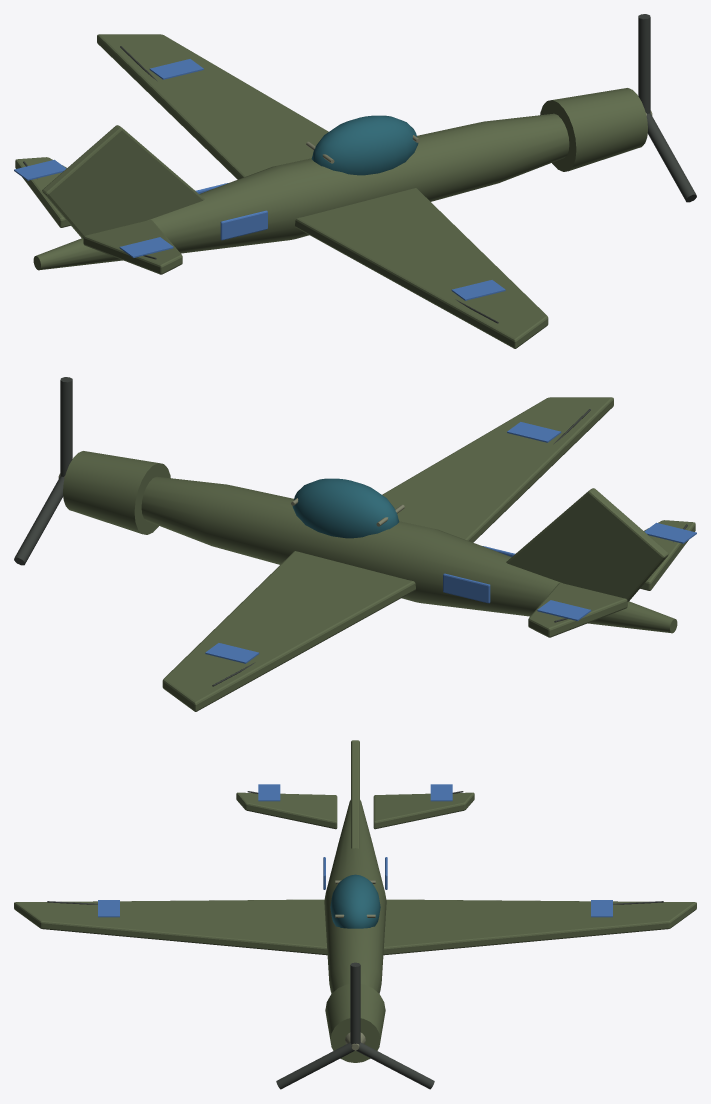
3 renders of one model, top to bottom at view 1: azimuth 30°, elevation 25°; view 2: azimuth 150°, elevation 25°; view 3: azimuth 270°, elevation 25°, orthographic. The views are drawn at different scales.
Visible parts, largest first — view 1: Armor, Optics, TeamColor, Steel; view 2: Armor, Optics, TeamColor, Steel; view 3: Armor, Steel, Optics, TeamColor.
Boxes of the visible parts, box(x1,y1,x2,y2) form: Armor: box(15, 34, 647, 348); Optics: box(311, 115, 418, 175); TeamColor: box(14, 59, 505, 300); Steel: box(23, 14, 696, 323); Armor: box(63, 397, 695, 711); Optics: box(292, 478, 399, 538); TeamColor: box(205, 422, 696, 663); Steel: box(14, 377, 687, 686); Armor: box(14, 740, 696, 1062); Steel: box(47, 791, 663, 1089); Optics: box(330, 874, 380, 928); TeamColor: box(98, 784, 612, 917).
Bounding box in the file's own units: 5.74 × 1.53 × 6.79.
